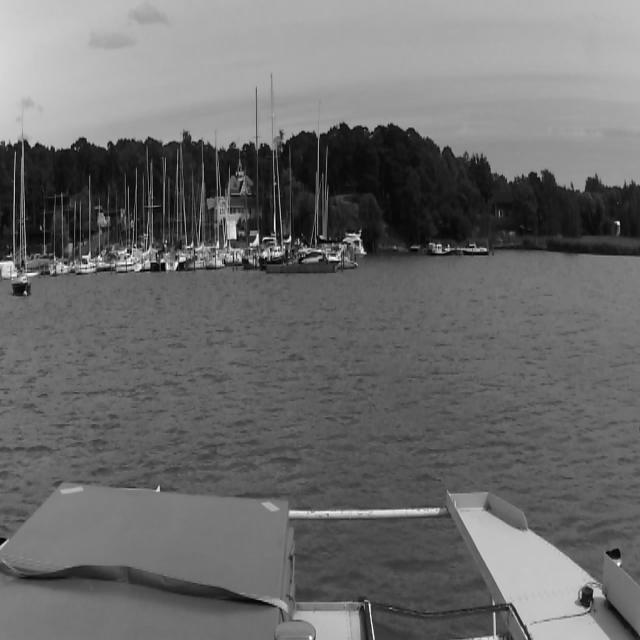ship: (259, 75, 283, 265), (182, 140, 206, 268), (12, 128, 30, 298), (209, 132, 226, 268), (133, 146, 151, 268), (165, 151, 181, 269), (76, 175, 94, 272), (151, 154, 165, 270), (97, 184, 114, 269), (119, 172, 133, 270), (300, 246, 345, 266), (341, 231, 366, 258), (429, 243, 453, 255), (463, 244, 489, 255)
